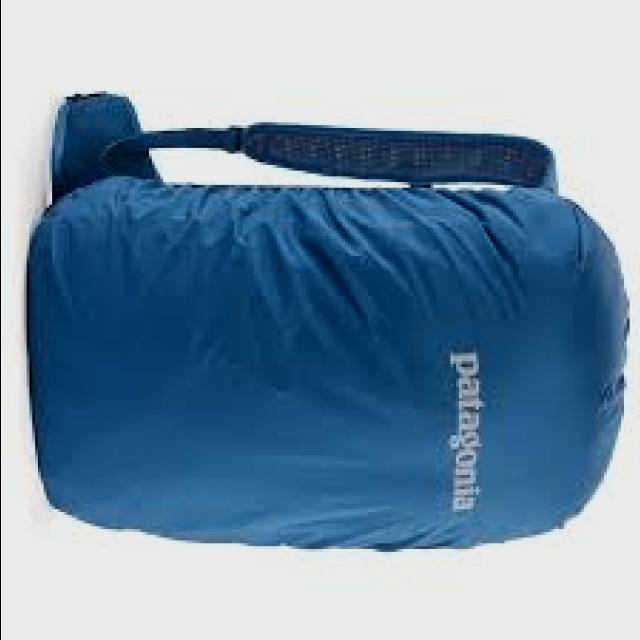backpack: (27, 92, 633, 553)
